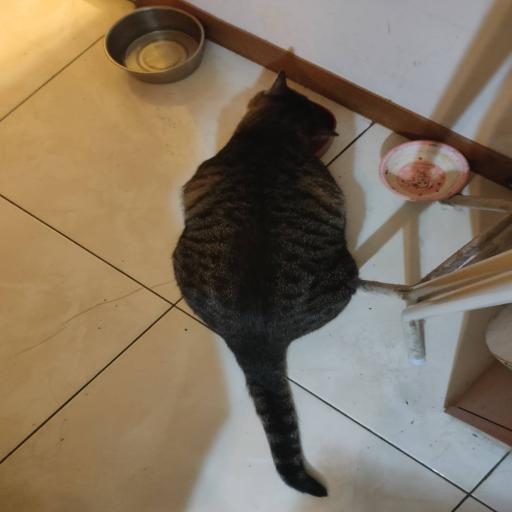cat: (187, 79, 356, 362)
